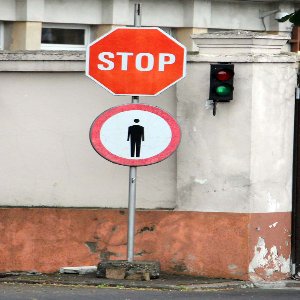STOP_SIGN: (86, 26, 185, 96)
